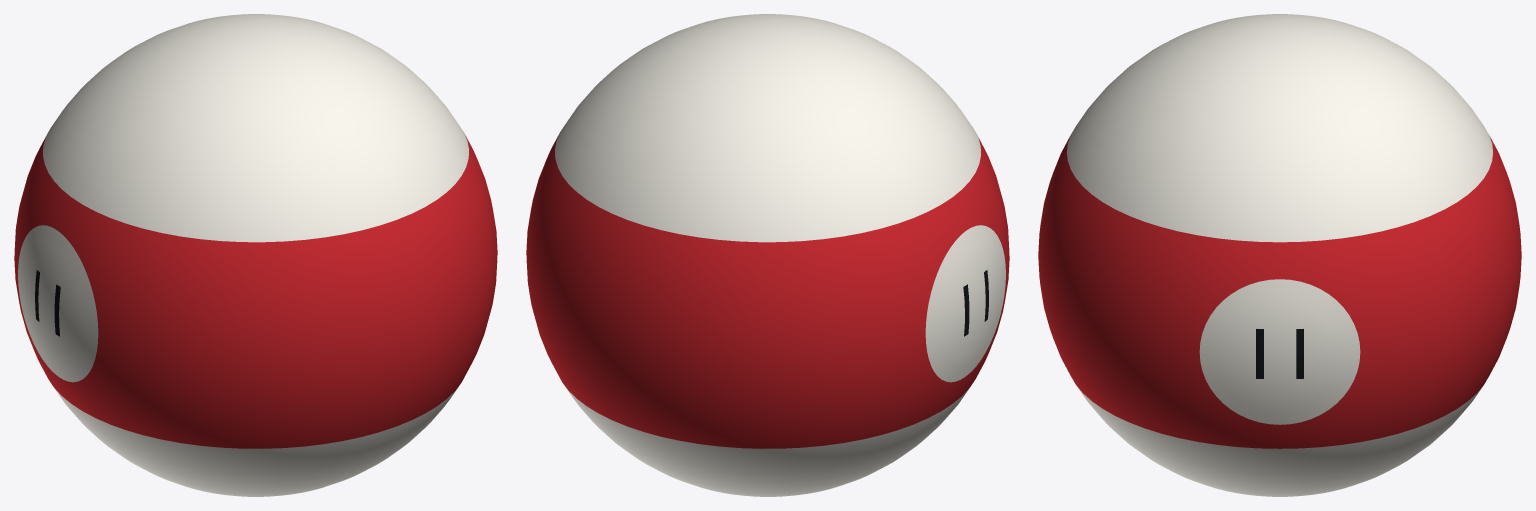
File: ball_11.glb
3 views of the same model, side by side, from view 1: azimuth 30°, elevation 25°; view 2: azimuth 150°, elevation 25°; view 3: azimuth 270°, elevation 25° (orthographic).
Visible parts, largest first — view 1: Ball 11 | resin, Ball 11 | number medallion | opposite; view 2: Ball 11 | resin, Ball 11 | number medallion | opposite; view 3: Ball 11 | resin, Ball 11 | number medallion, Ball 11 | numeral 11.
Boxes of the visible parts, <box> form: Ball 11 | resin: <box>14,14,497,496</box>; Ball 11 | number medallion | opposite: <box>18,225,98,382</box>; Ball 11 | resin: <box>526,14,1009,496</box>; Ball 11 | number medallion | opposite: <box>925,225,1005,382</box>; Ball 11 | resin: <box>1038,14,1521,496</box>; Ball 11 | number medallion: <box>1199,279,1360,424</box>; Ball 11 | numeral 11: <box>1256,329,1303,378</box>.
Size of the model in its own units: 0.0573 by 0.0571 by 0.0571.
